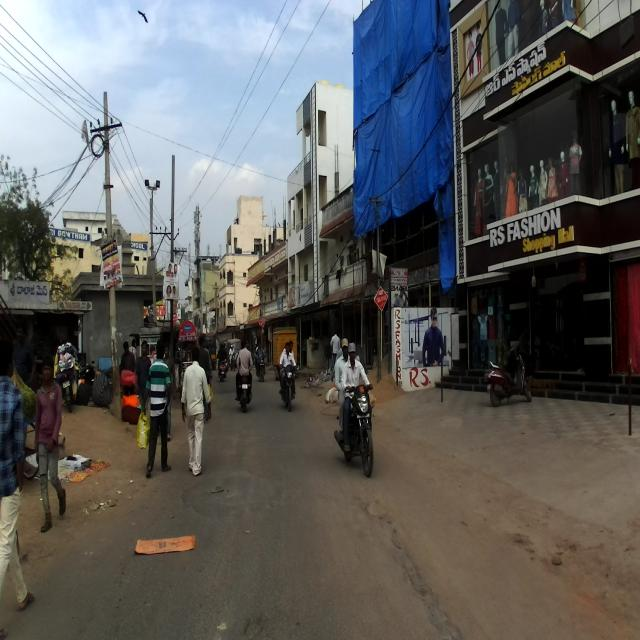electric pole ahead at: (87, 88, 137, 420)
motorcycle ahead at: (329, 332, 382, 485), (233, 332, 254, 408)
person ahead at: (180, 348, 214, 489), (145, 333, 175, 490)
